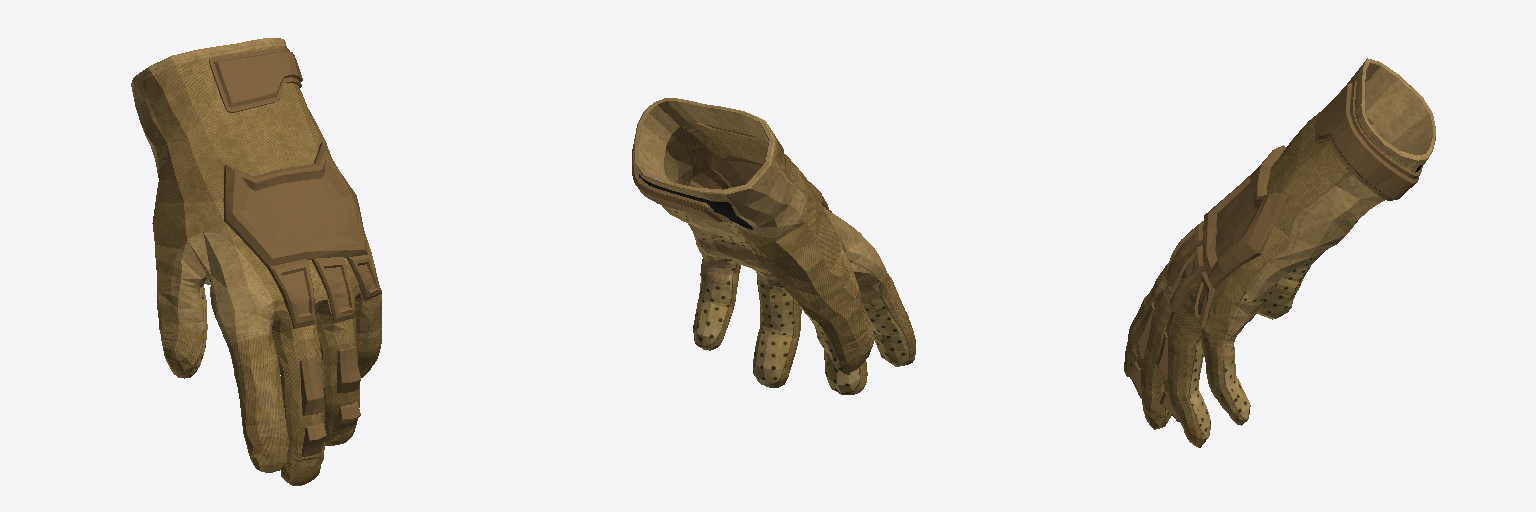
3 views of the same model, side by side, from view 1: azimuth 30°, elevation 25°; view 2: azimuth 150°, elevation 25°; view 3: azimuth 270°, elevation 25° (orthographic).
Visible parts, largest first — view 1: guante_militar; view 2: guante_militar; view 3: guante_militar.
Part boxes in pixels (x1,y1,x2,y2): guante_militar: (131, 38, 381, 485); guante_militar: (632, 98, 915, 394); guante_militar: (1124, 58, 1435, 447).
Size of the model in its own units: 0.5005 by 0.8853 by 0.6967.
1 materials, 1 textured.